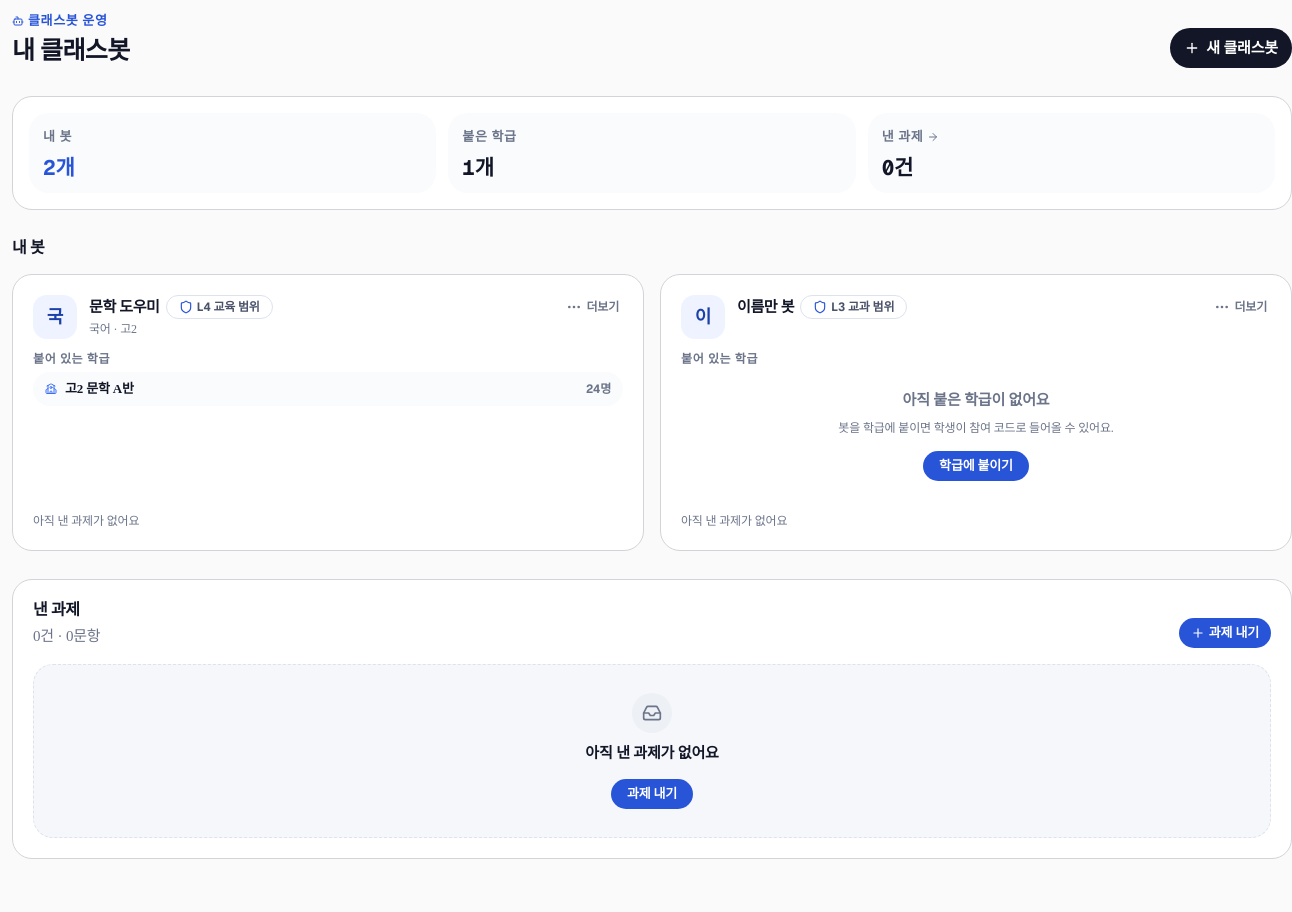
목이 화면에 남아 있지 않다 › 더보기 안에 「봇 멈추기 / 다시 돌리기」가 없다
This screenshot has width=1292, height=912.
Step 1. Click the button "더보기" in the row of "교육 범위" → (593, 307), box x1=558 y1=291 x2=627 y2=323
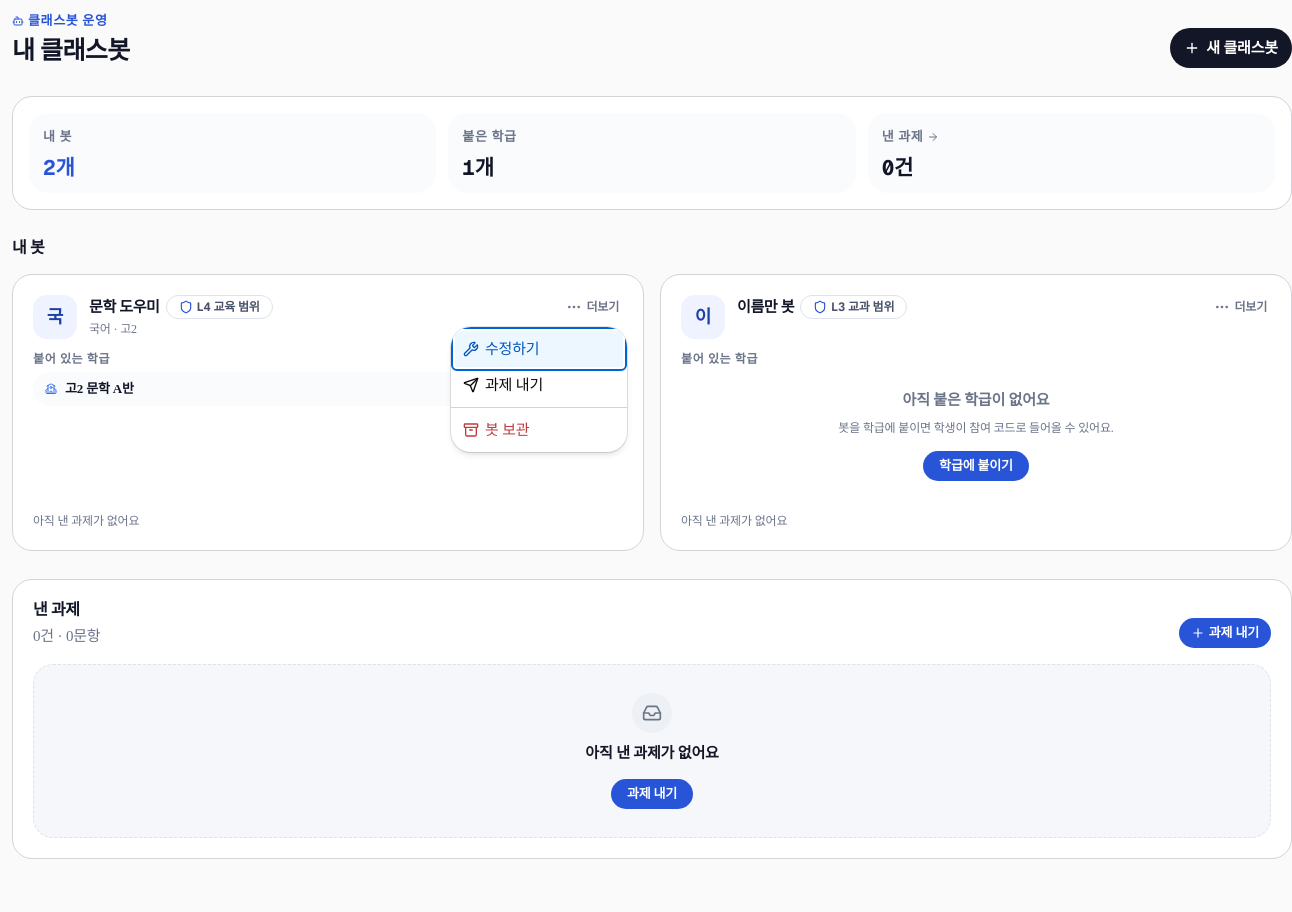
Expected: the menu item "수정하기" is shown, x1=455 y1=331 x2=623 y2=367
Expected: the menu item "과제 내기" is shown, x1=463 y1=377 x2=543 y2=393
Expected: the menu item "봇 보관" is shown, x1=463 y1=422 x2=530 y2=438
